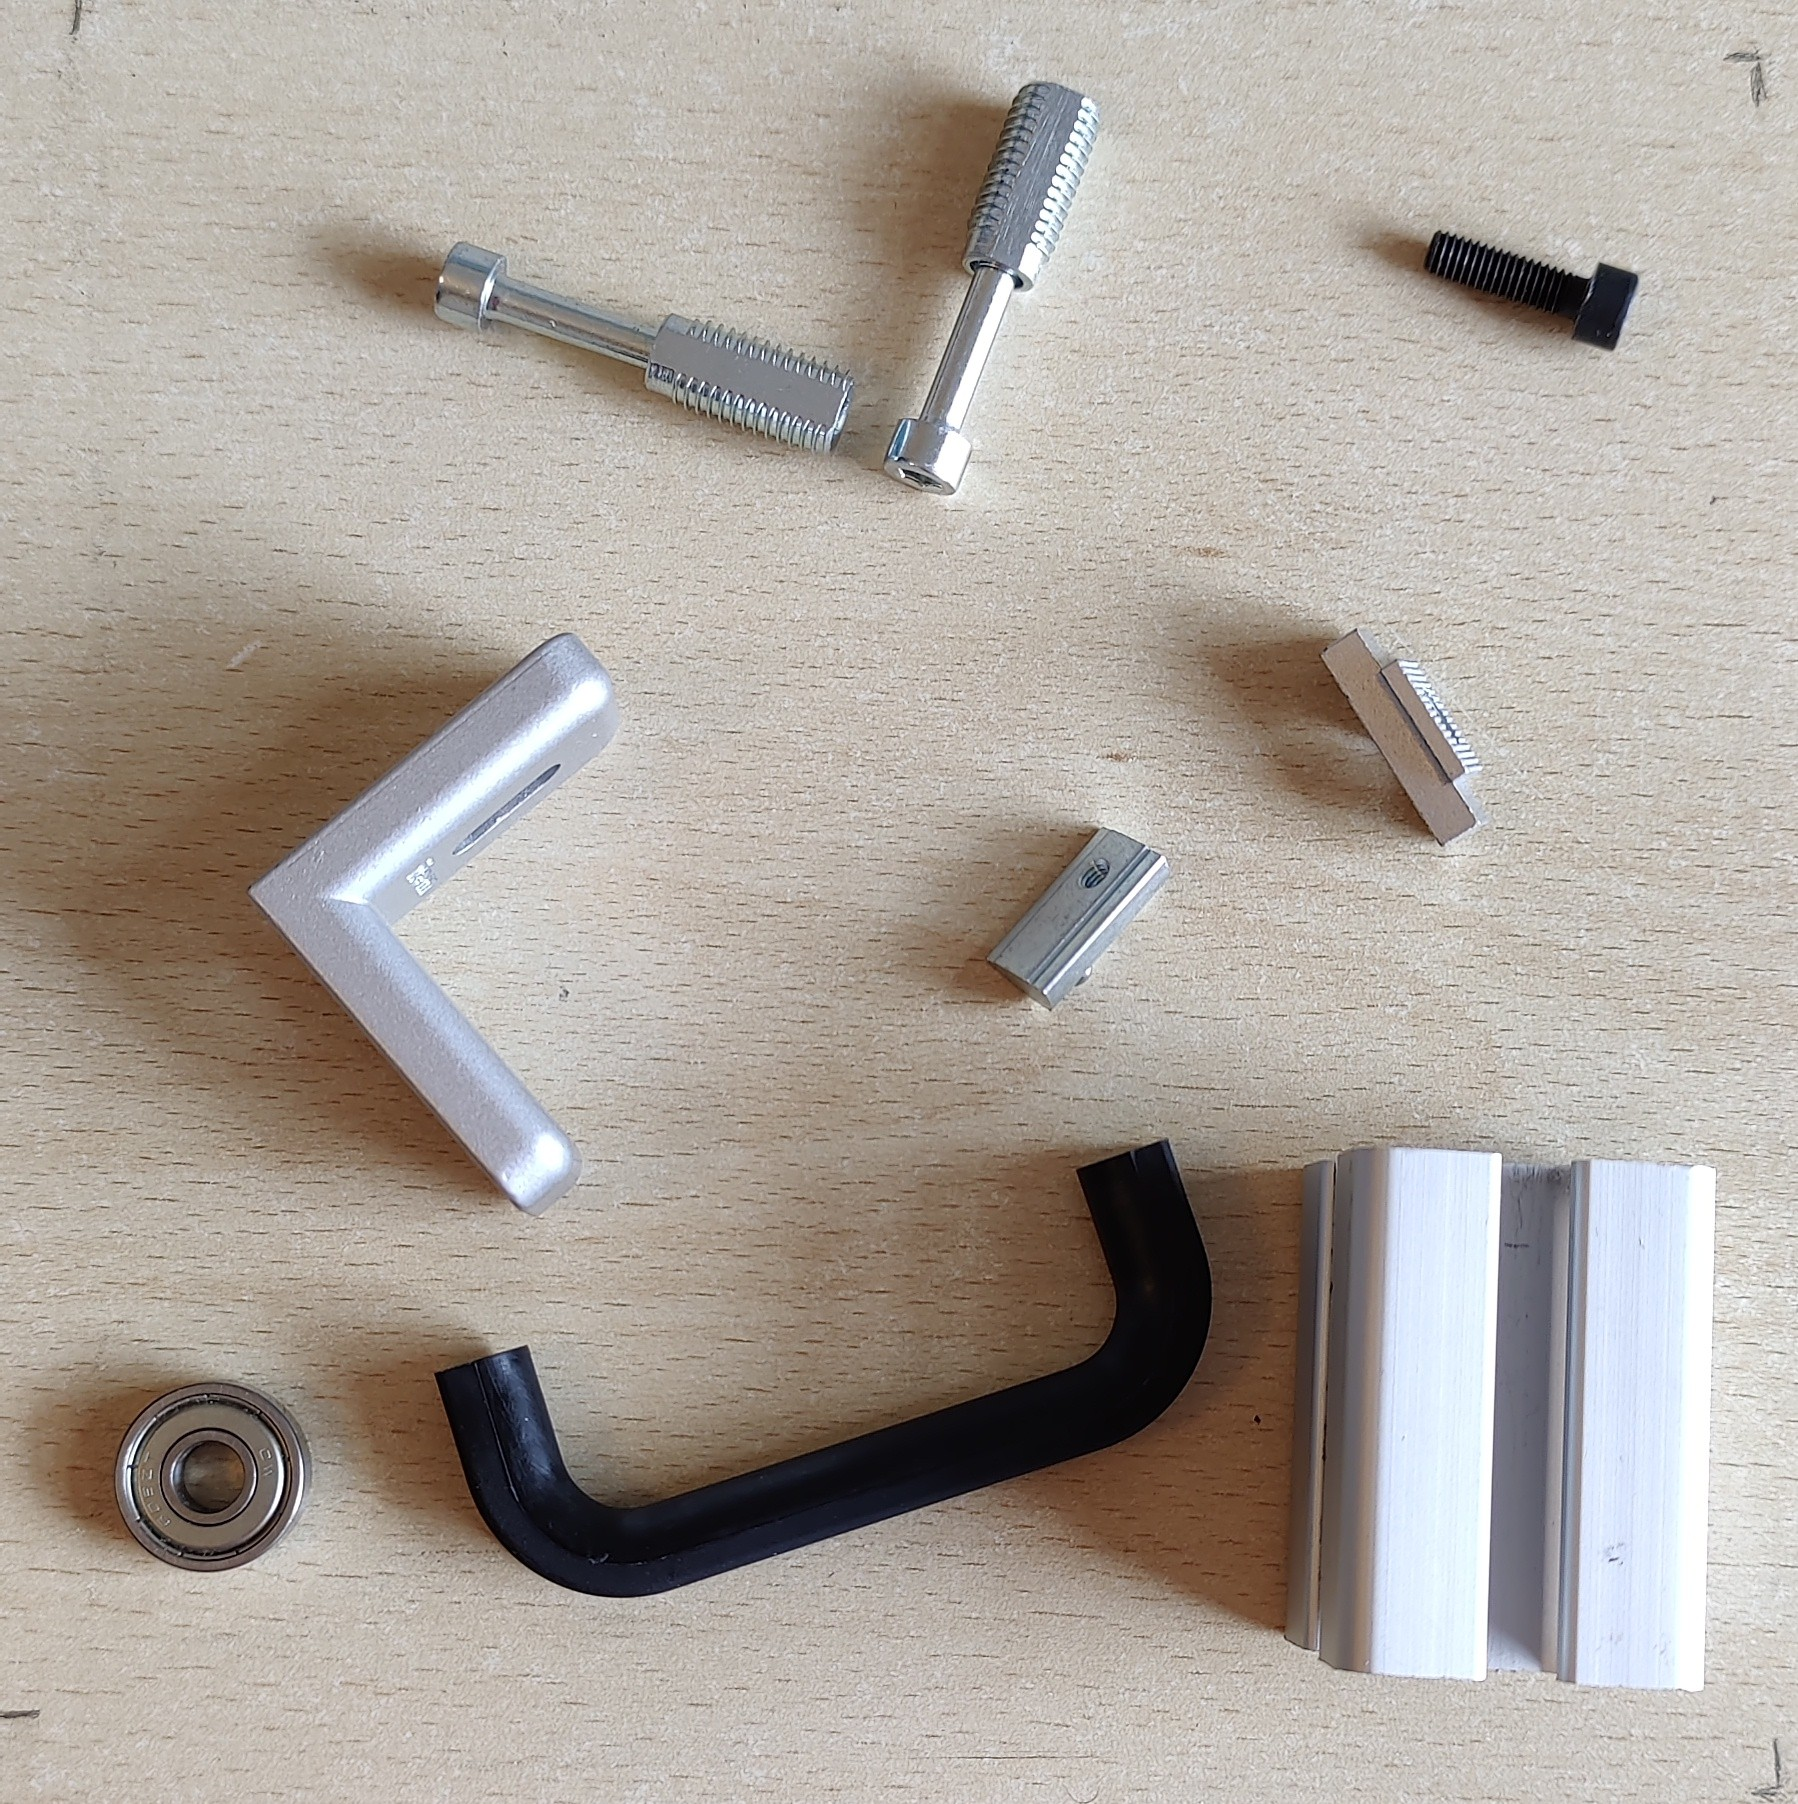Aluminium Extension: (1278, 1142, 1719, 1694)
Ball Bearing: (110, 1378, 311, 1574)
Multiwinkel: (244, 630, 621, 1218)
Pull Handle: (435, 1136, 1213, 1600)
Shoulder Socket Head Cap Screw: (878, 79, 1105, 499), (428, 239, 859, 458)
Socket Head Cap Screw: (1418, 229, 1642, 352)
T Nut Square: (1317, 627, 1497, 849)
T Spring Nut: (981, 823, 1172, 1016)
